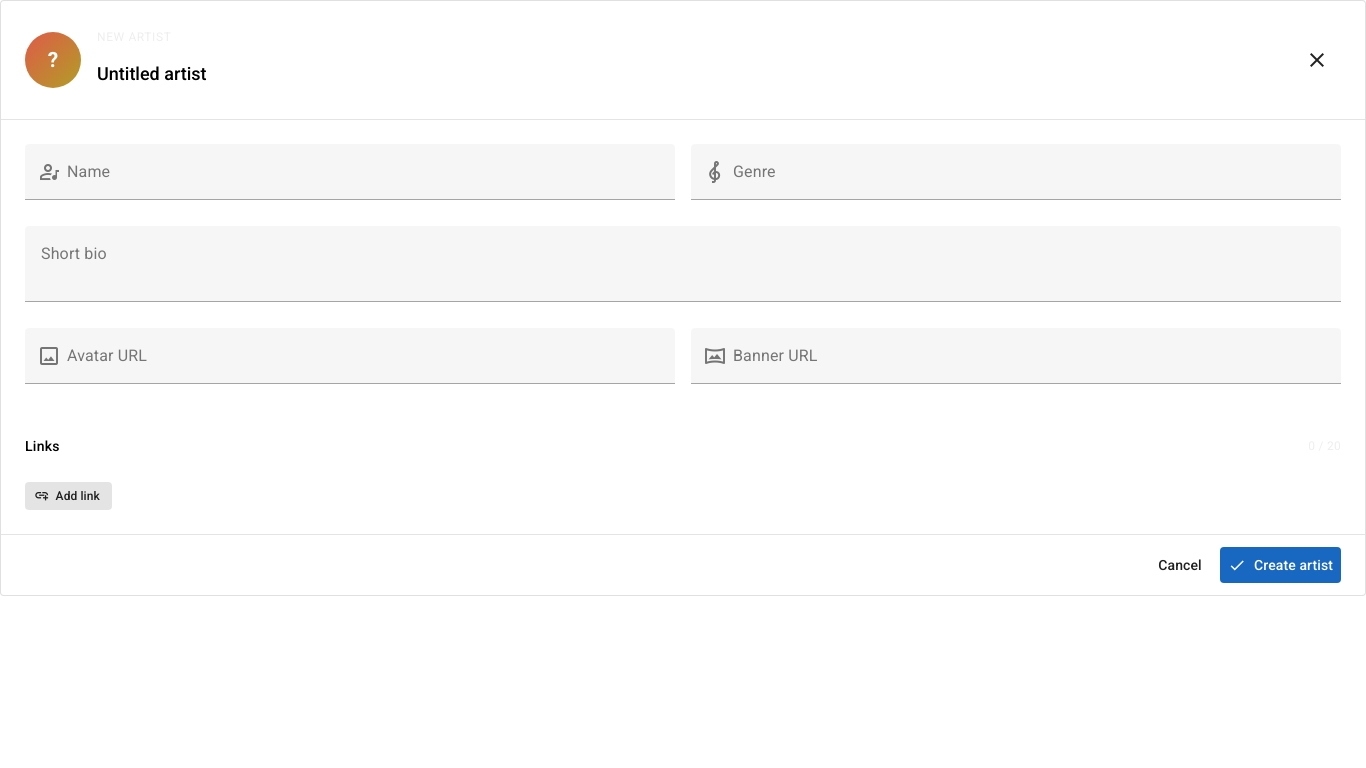
Scenario: ArtistCreatePanel › shows a readable message when the API rejects the data
The image size is (1366, 768).
Type "Nova" into the field labelled "Name". click: (368, 172)
box: [61, 144, 675, 200]
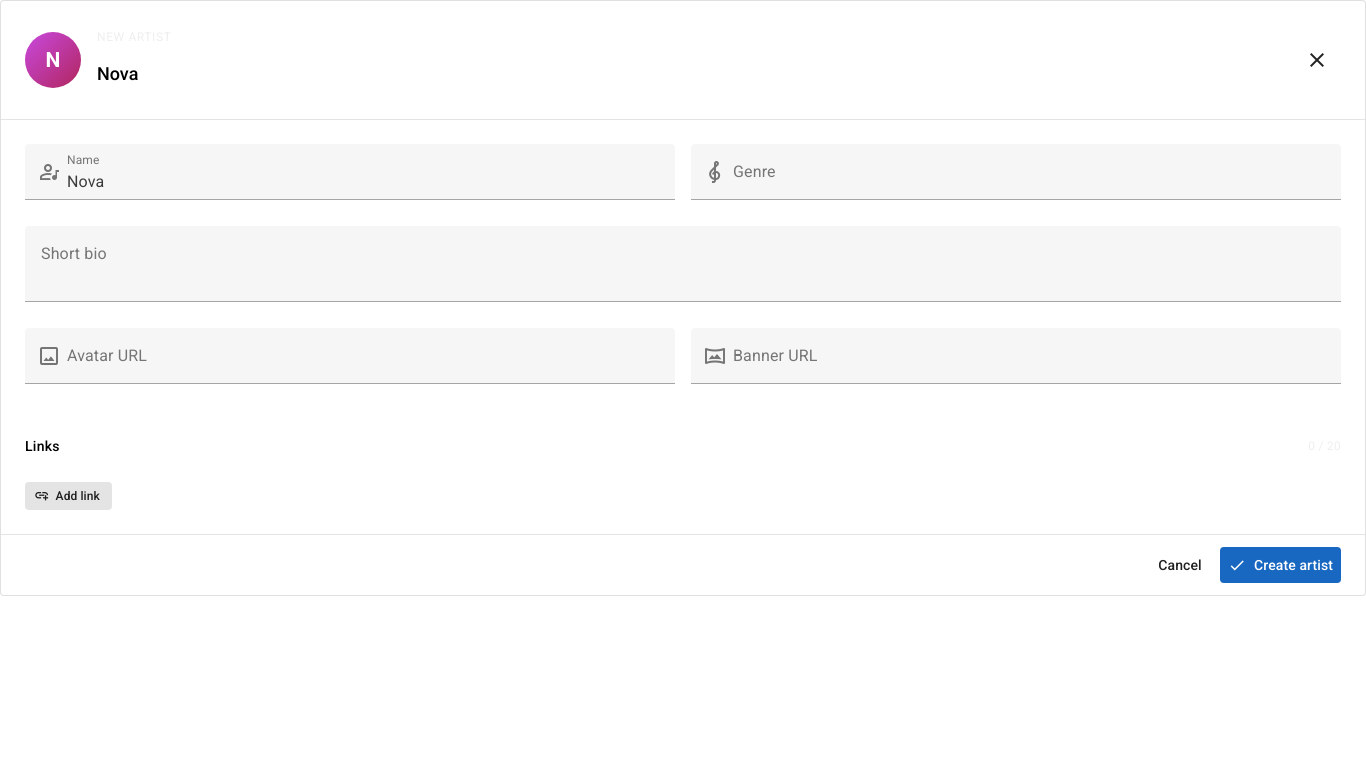
Submit the form
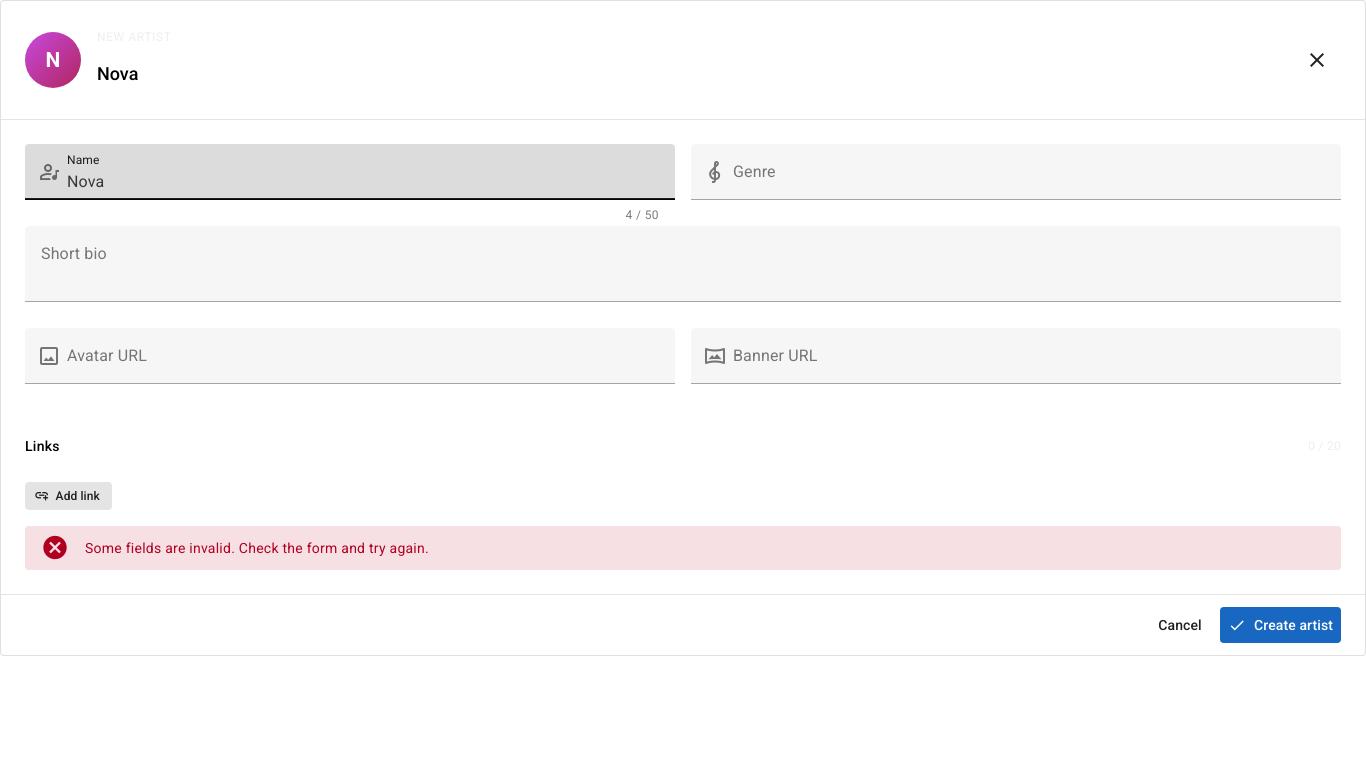
Now the text "Some fields are invalid" is shown, box [85, 540, 429, 556]
